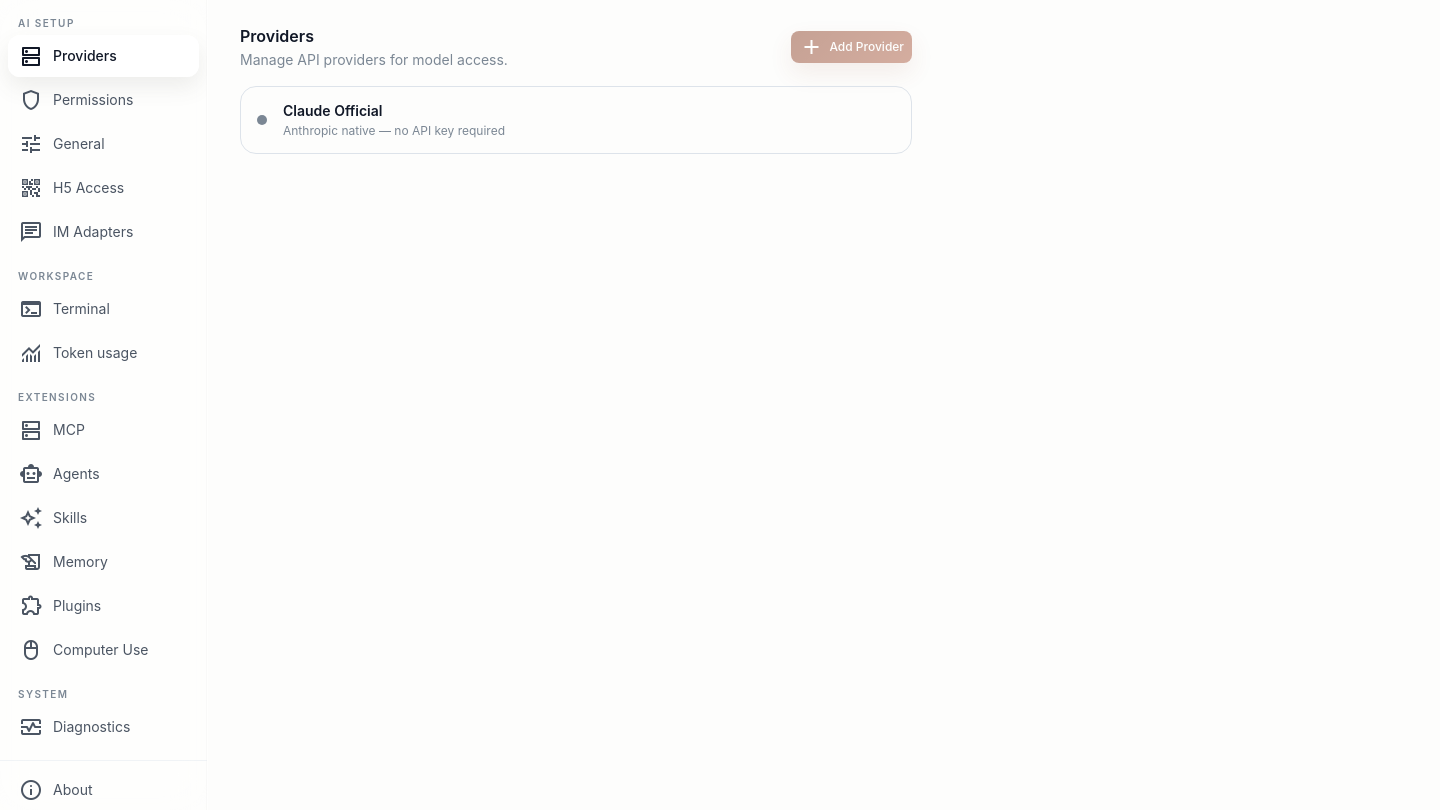
Settings > Skills tab › renders browser summary and grouped skill cards
This screenshot has width=1440, height=810.
Step 1. Click the button "Skills" → point(104, 518), box x1=8 y1=497 x2=199 y2=539
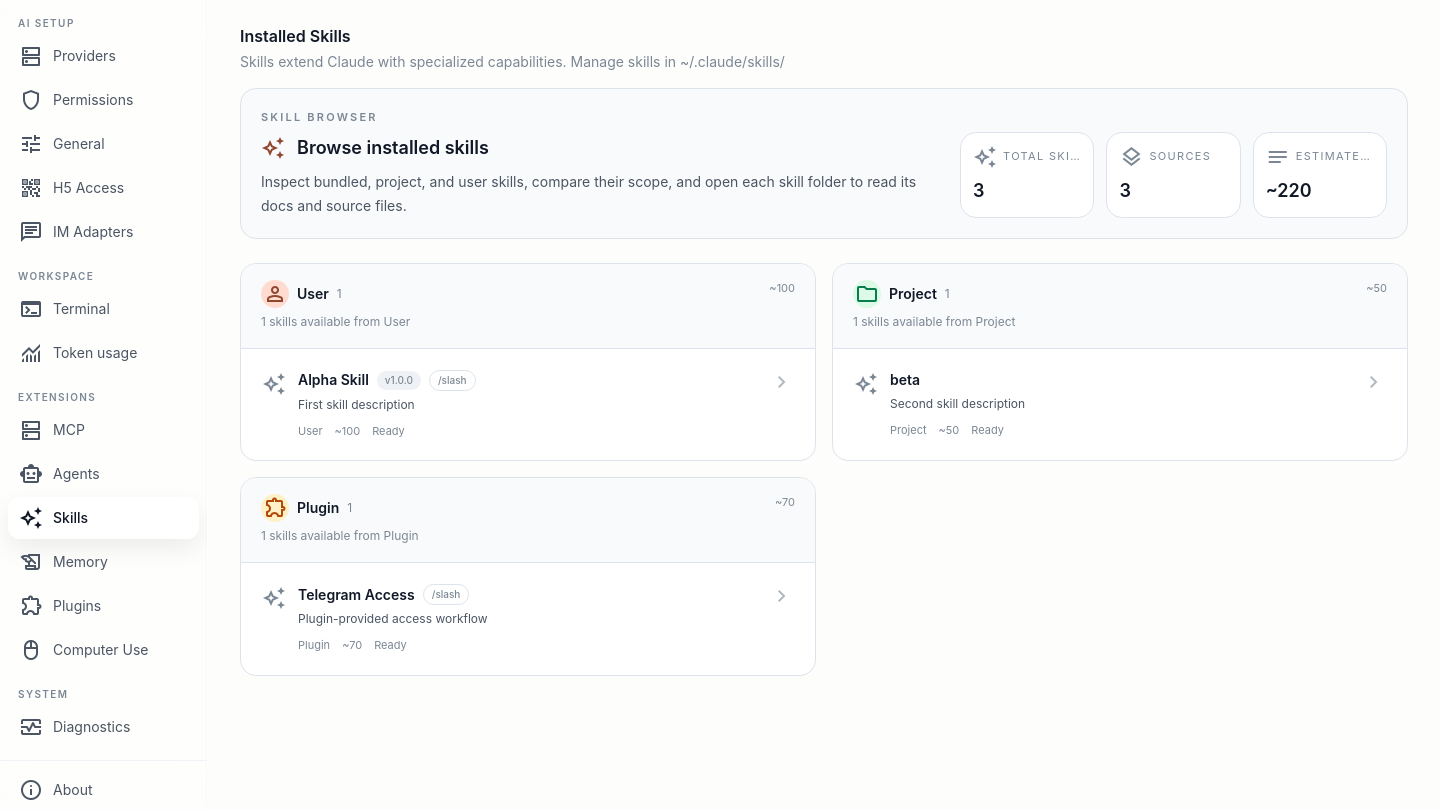
Expected: the heading "Browse installed skills" is shown, x1=297 y1=134 x2=489 y2=162
Expected: the text "Skill Browser" is shown, x1=261 y1=110 x2=378 y2=124
Expected: the text "Total skills" is shown, x1=1003 y1=148 x2=1081 y2=165
